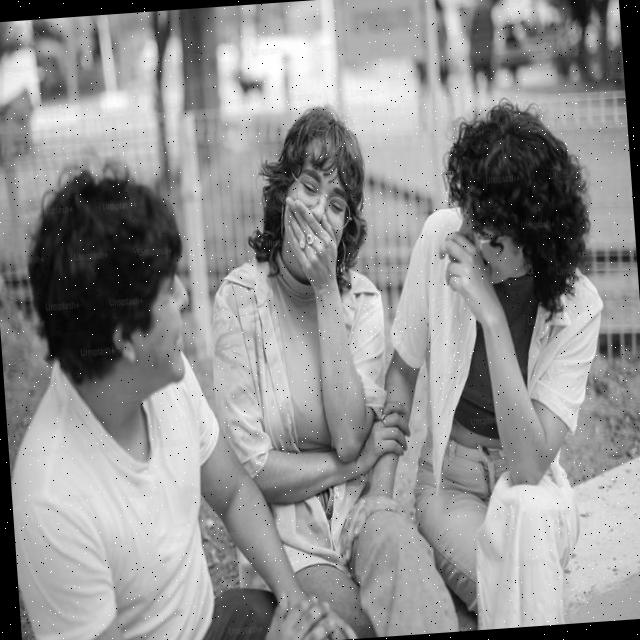Happiness: (275, 162, 353, 279)
